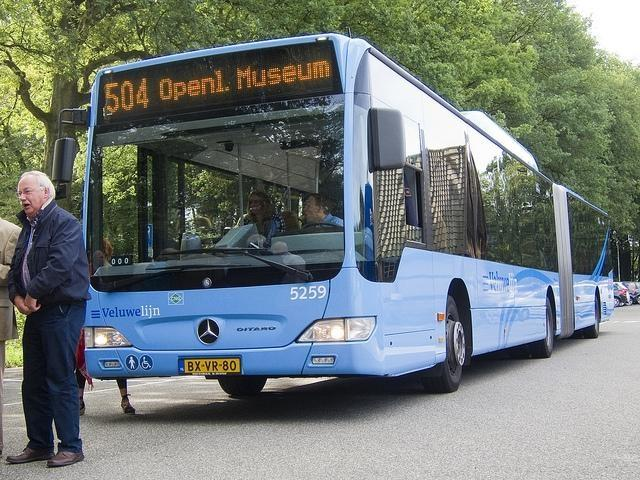bus: (83, 27, 615, 399)
car: (623, 281, 640, 306), (614, 282, 630, 306)
